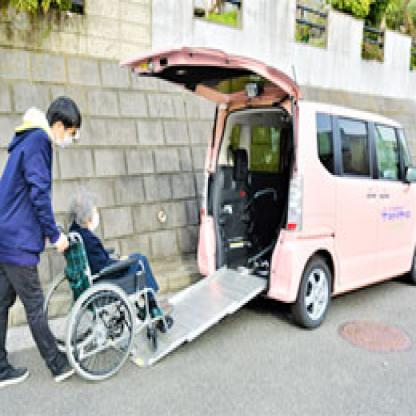wheelchair: (47, 186, 172, 378)
